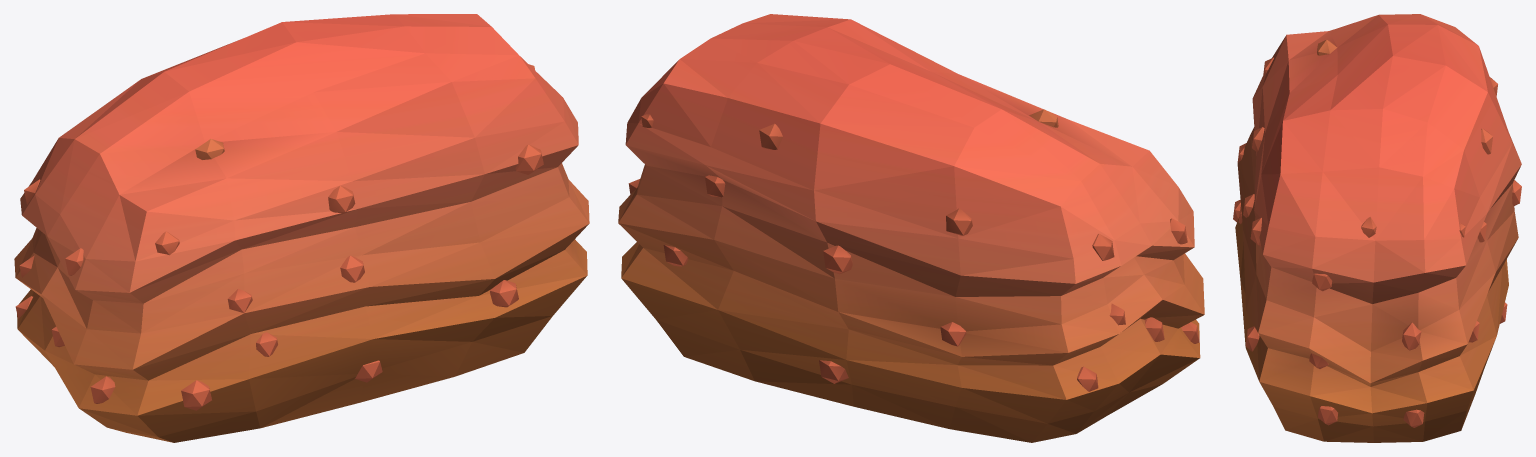
Rendered from bush_mound.glb.
3 renders of one model, left to right at view 1: azimuth 30°, elevation 25°; view 2: azimuth 150°, elevation 25°; view 3: azimuth 270°, elevation 25°, orthographic. The views are drawn at different scales.
Parts seen in each view (by area): view 1: Bush_1_2_D; view 2: Bush_1_2_D; view 3: Bush_1_2_D.
Part boxes in pixels (box(x1,y1,x2,y2)): Bush_1_2_D: box(14, 14, 589, 442); Bush_1_2_D: box(618, 14, 1204, 442); Bush_1_2_D: box(1233, 14, 1521, 442).
Bounding box in the file's own units: 1.83 × 1.03 × 0.913.
Materials: 1 (1 with a texture image).
